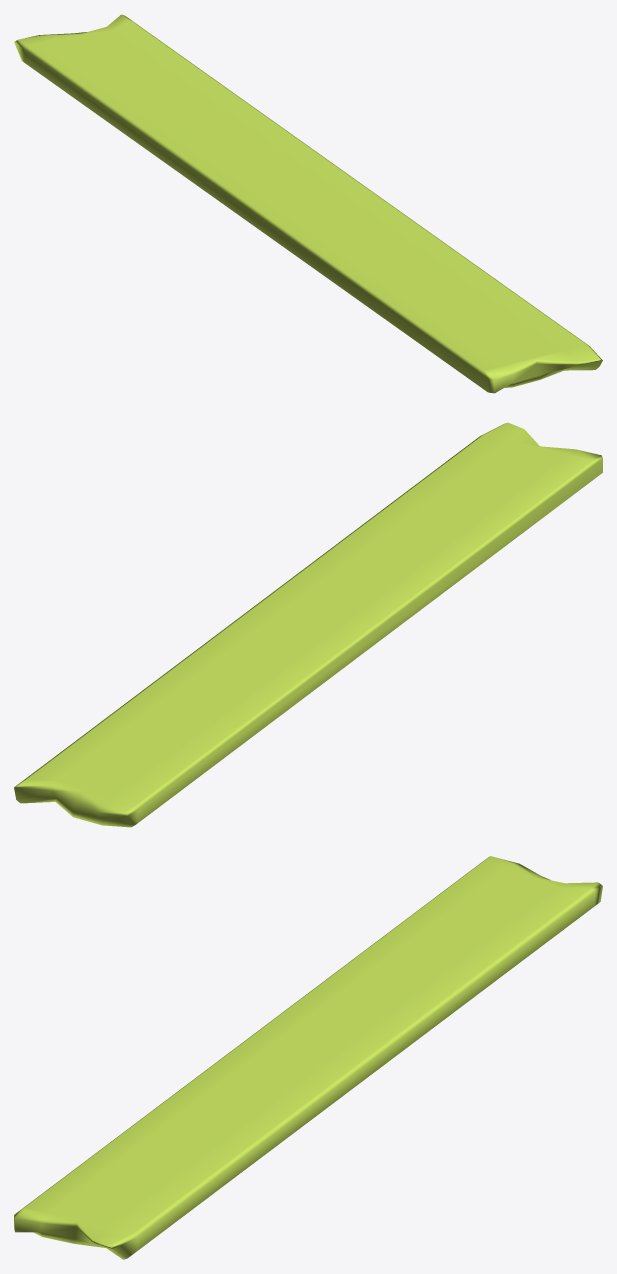
File: Mode_PlancheLongue.fbx
The picture shows the model from 3 angles, top to bottom: view 1: azimuth 30°, elevation 25°; view 2: azimuth 150°, elevation 25°; view 3: azimuth 330°, elevation 25°; orthographic projection. The views are drawn at different scales.
Visible parts, largest first — view 1: palnche_longue; view 2: palnche_longue; view 3: palnche_longue.
Part boxes in pixels (bbox=[...]): palnche_longue: bbox=[14, 14, 602, 393]; palnche_longue: bbox=[14, 422, 602, 827]; palnche_longue: bbox=[14, 856, 602, 1259].
Bounding box in the file's own units: 105 × 15.31 × 718.
